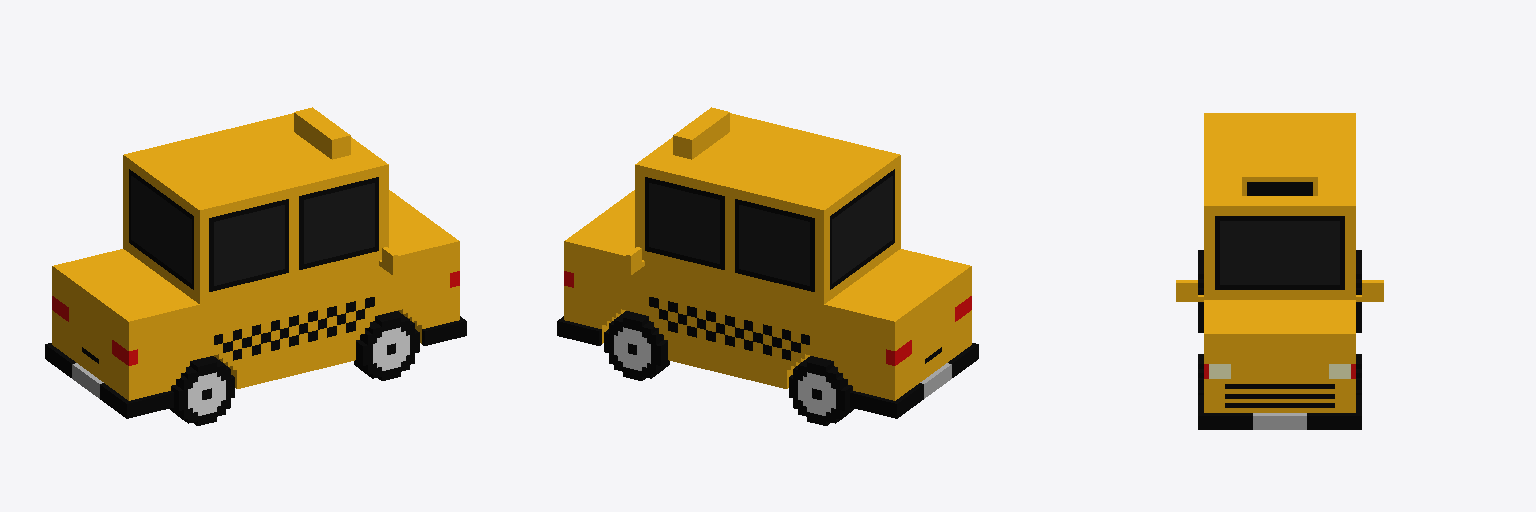
3 views of the same model, side by side, from view 1: azimuth 30°, elevation 25°; view 2: azimuth 150°, elevation 25°; view 3: azimuth 270°, elevation 25° (orthographic).
Size of the model in its own units: 72 by 47 by 38.
1 materials, 1 textured.